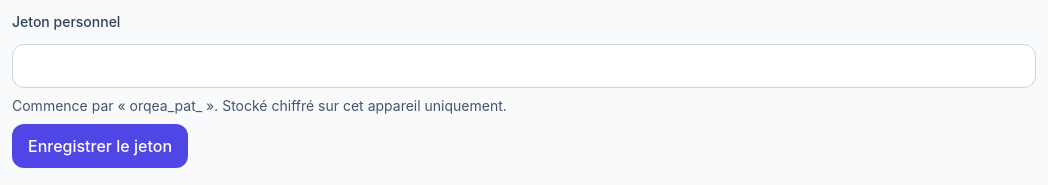
Test: TokenForm › rejects an invalid format without storing it
Type "orqea_pat_123" into the password field labelled "Jeton personnel". click: (524, 66)
box: [12,44,1036,88]
Then press Enter
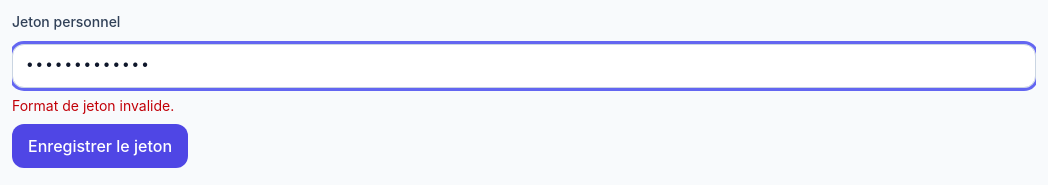
Now the text "Format de jeton invalide." is shown, box [12,97,174,114]
